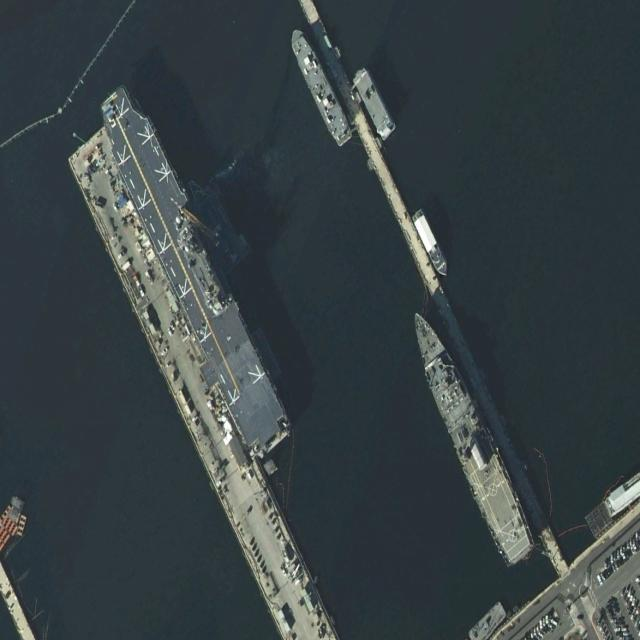Hovercraft: (351, 62, 397, 144)
Landing: (90, 72, 295, 467), (402, 296, 540, 574)
Other Ship: (285, 21, 354, 151), (410, 204, 451, 282)
